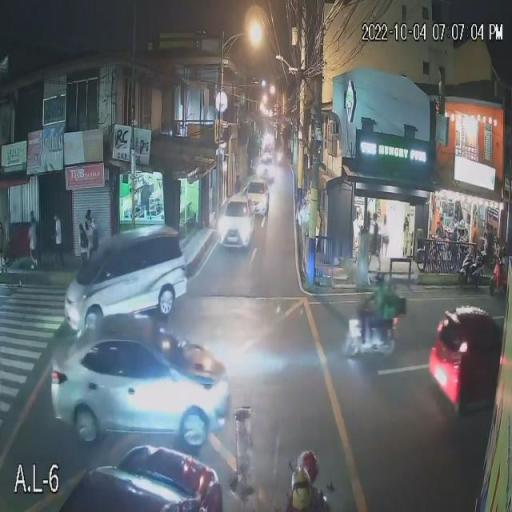helmet: (298, 450, 320, 480), (373, 270, 389, 286)
motorcycle: (344, 275, 406, 361), (284, 450, 338, 511), (456, 246, 489, 287), (491, 254, 511, 300)
rider: (362, 274, 402, 350), (288, 449, 327, 512), (493, 250, 506, 294)
